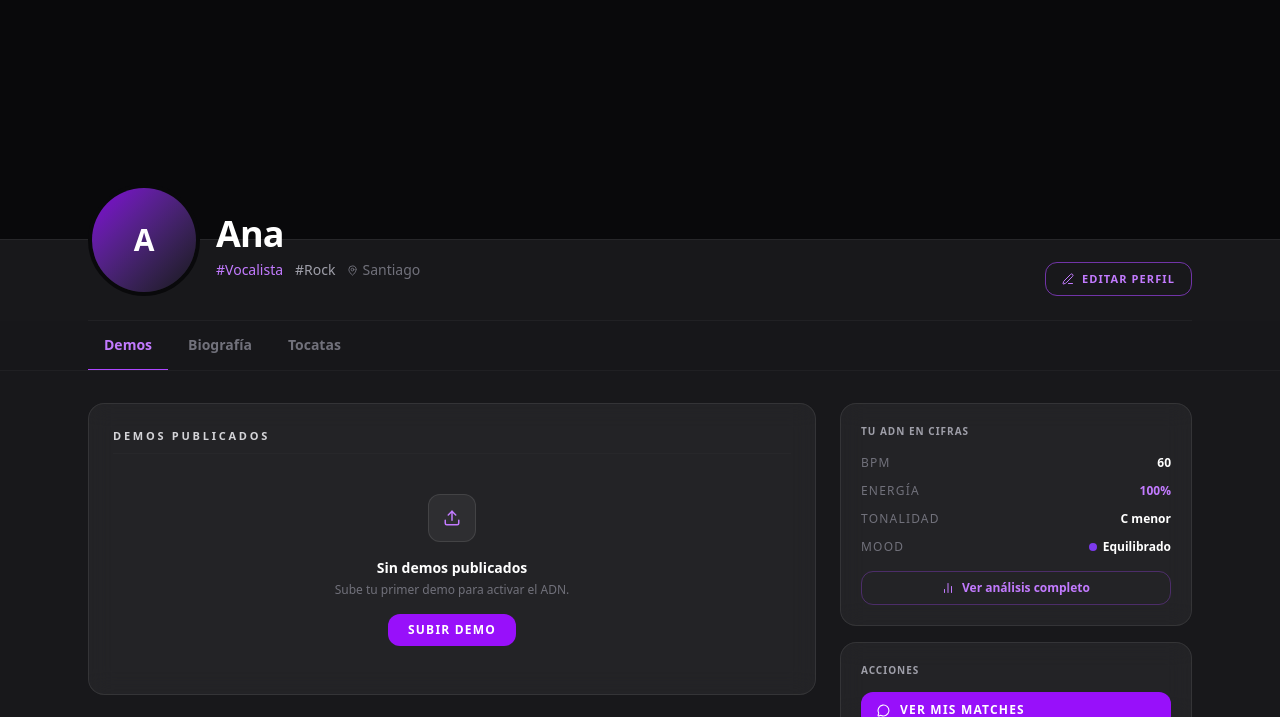
Scenario: Profile — happy path (perfil propio) › permite editar y guardar la biografía
Click the button "Biografía".
click(220, 346)  # box left=172, top=321, right=268, bottom=371
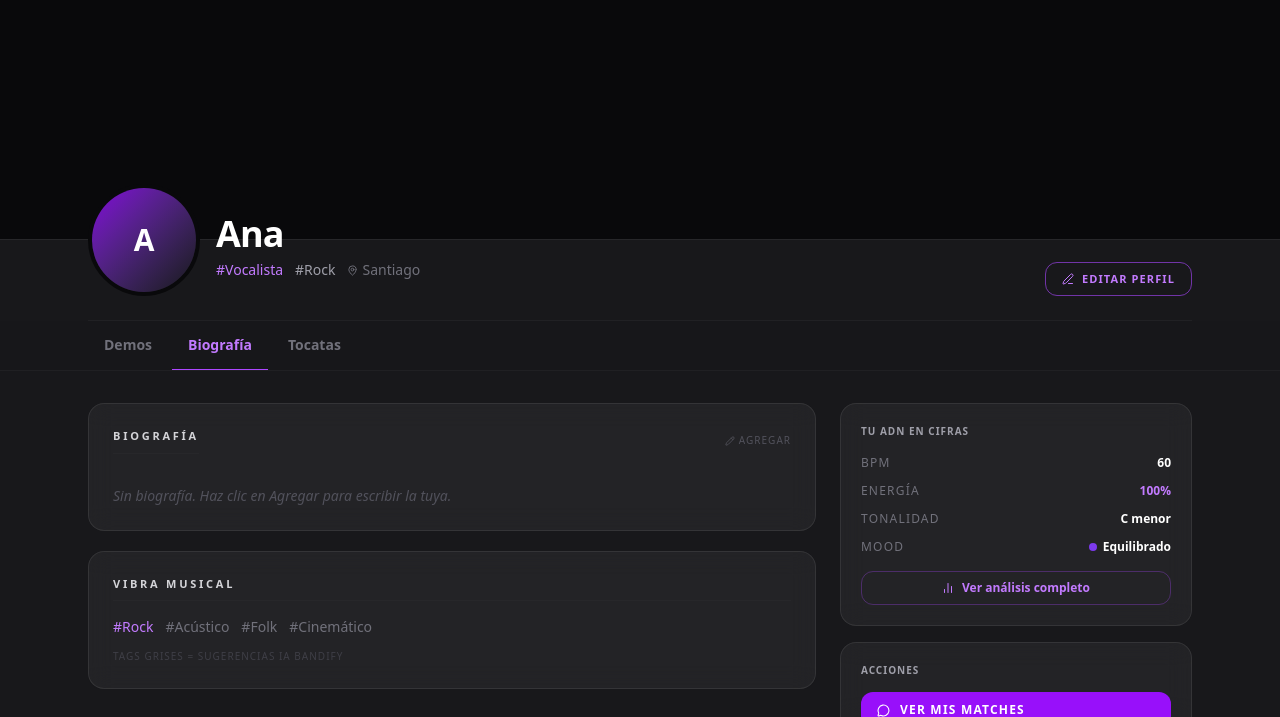
Click the button "Agregar".
click(758, 441)  # box left=725, top=433, right=791, bottom=448
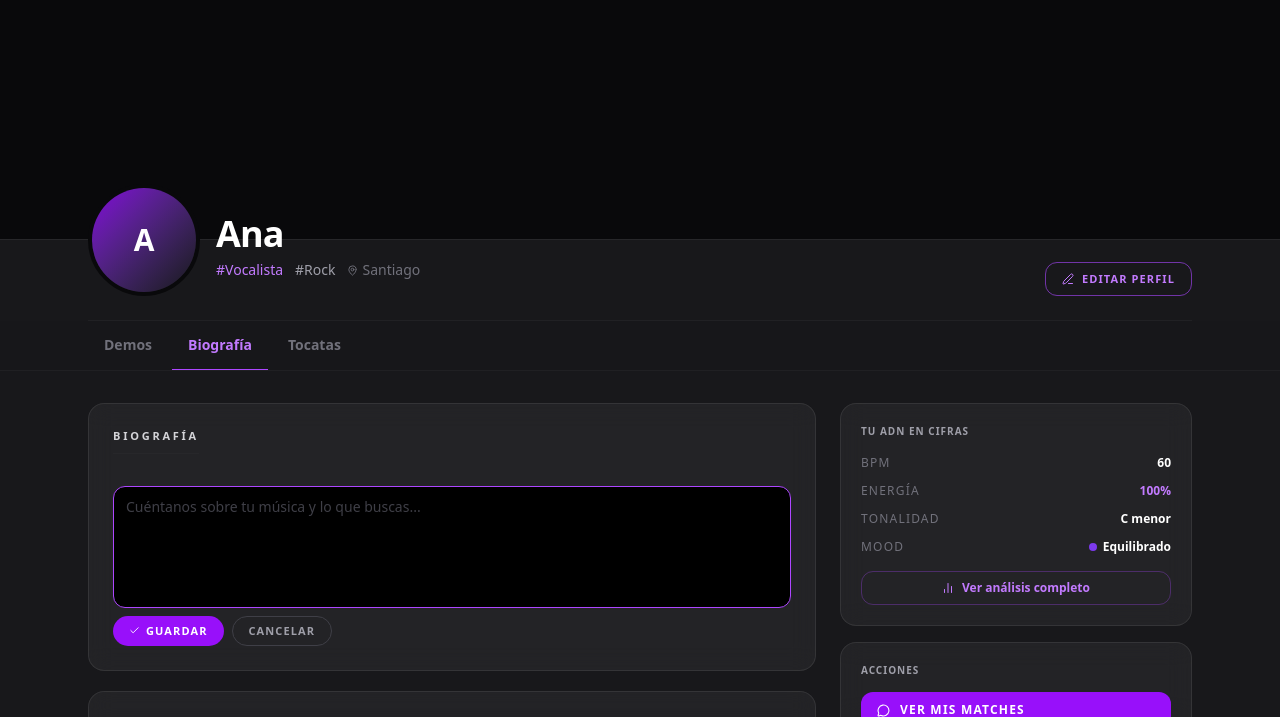
Type "Bajista buscando banda de rock alternativo." into the text box with placeholder "Cuéntanos sobre tu música y lo que buscas...".
click(452, 546); type("Bajista buscando banda de rock alternativo.")  # box left=113, top=486, right=791, bottom=608
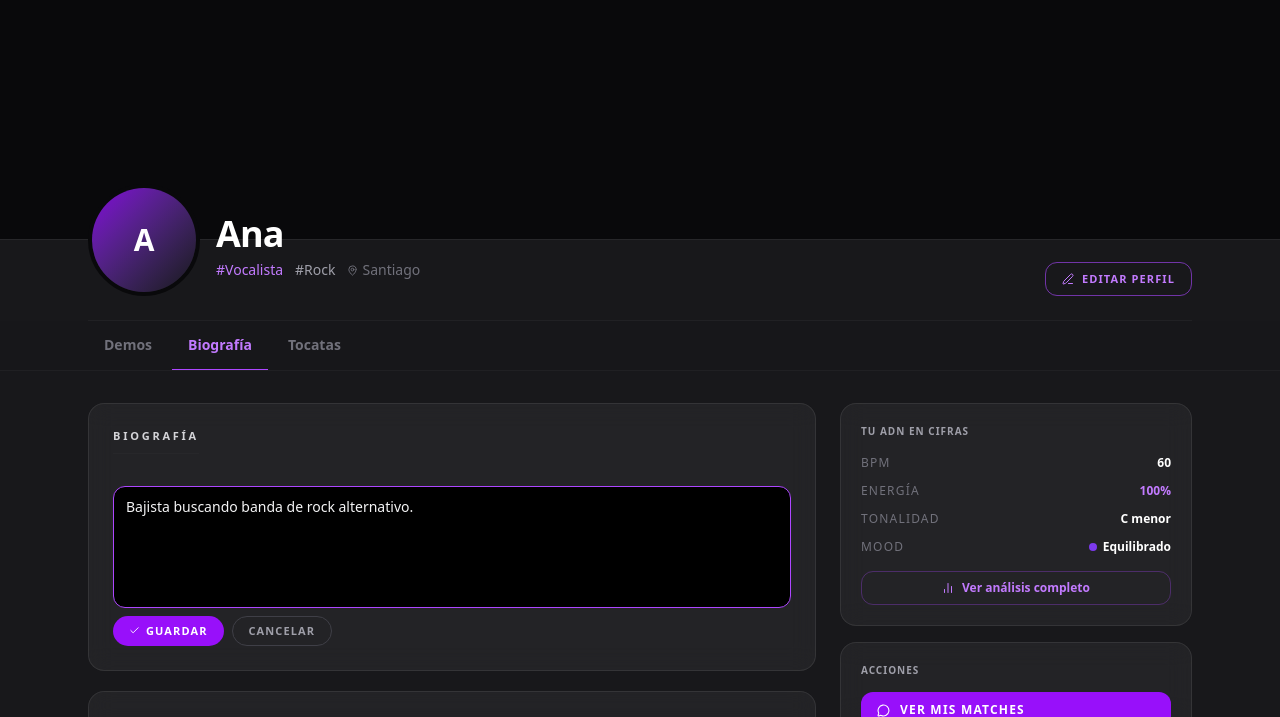
Click the button "Guardar".
click(168, 631)  # box left=113, top=616, right=224, bottom=646
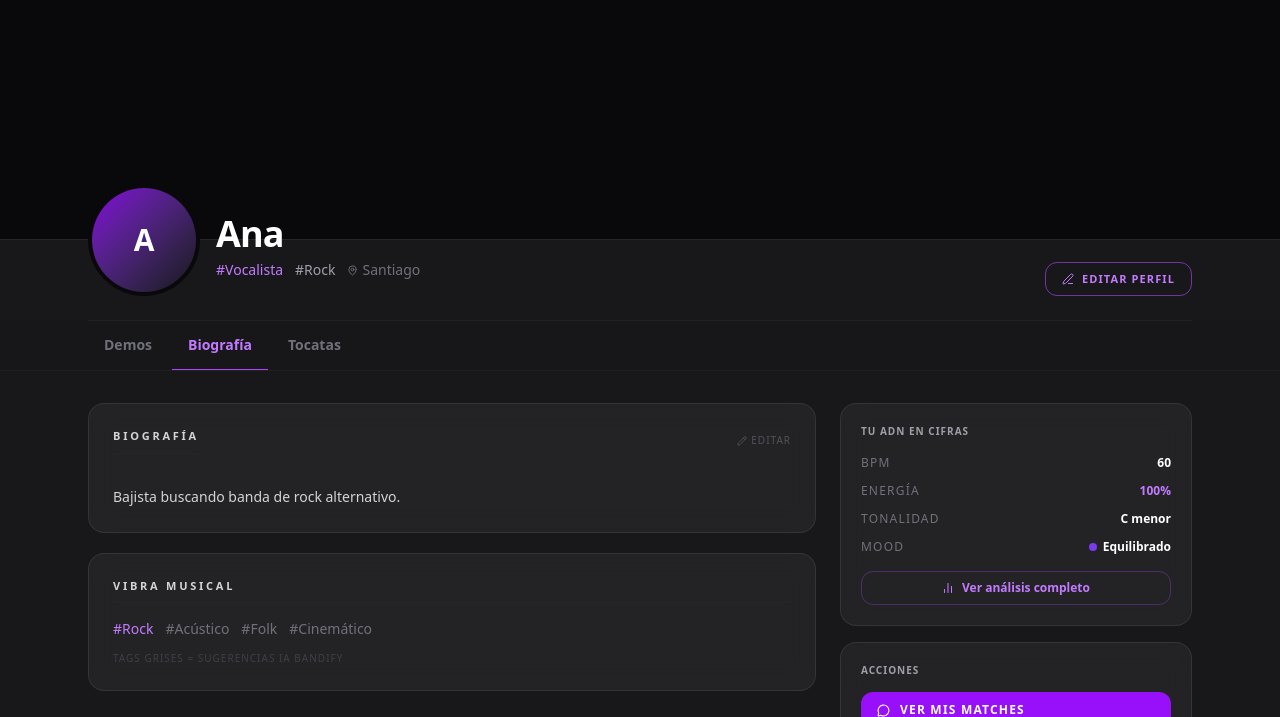
Check: the text "Bajista buscando banda de rock alternativo." is shown, box left=113, top=486, right=400, bottom=506
